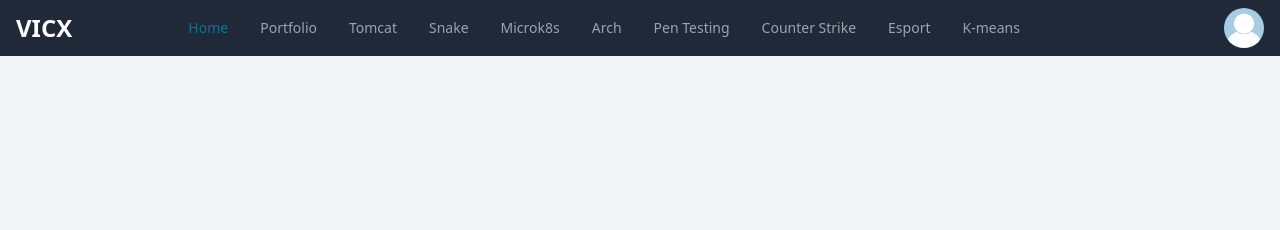
Test: VicxNavbar › Interactions › has email address in dropdown when user has email
What coordinates should you click on to do the following:
click the button with test id "flowbite-avatar"
I would click on:
 (1244, 28)
Its box is x1=1224 y1=8 x2=1264 y2=48.
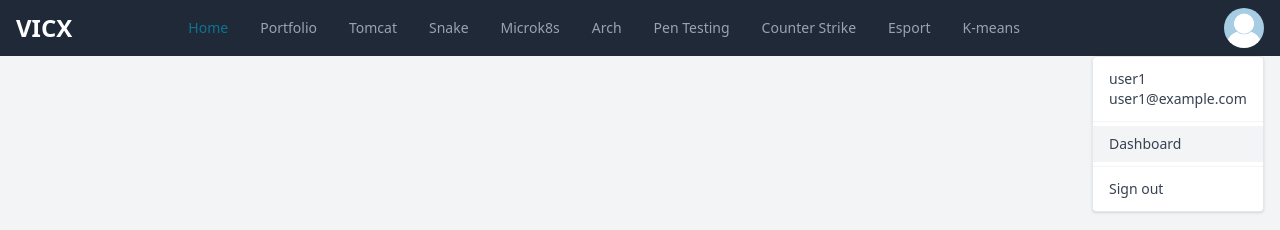
expect the text "user1@example.com" is shown: met, box x1=1109 y1=89 x2=1247 y2=109
